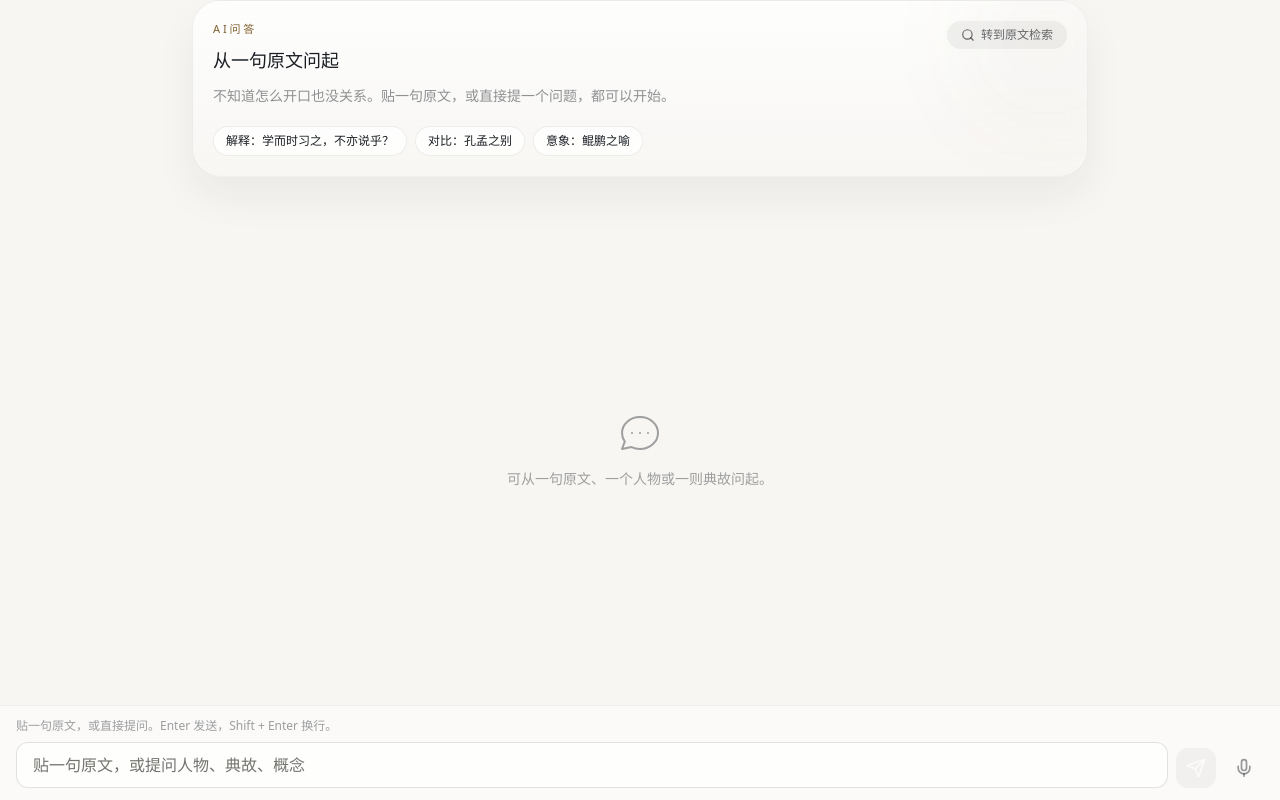
Test: ChatInterface › marks a non-empty stream without done as interrupted
Type "回答这个问题" into the text box.
click(592, 765); type("回答这个问题")  # box 16,742 -> 1168,788
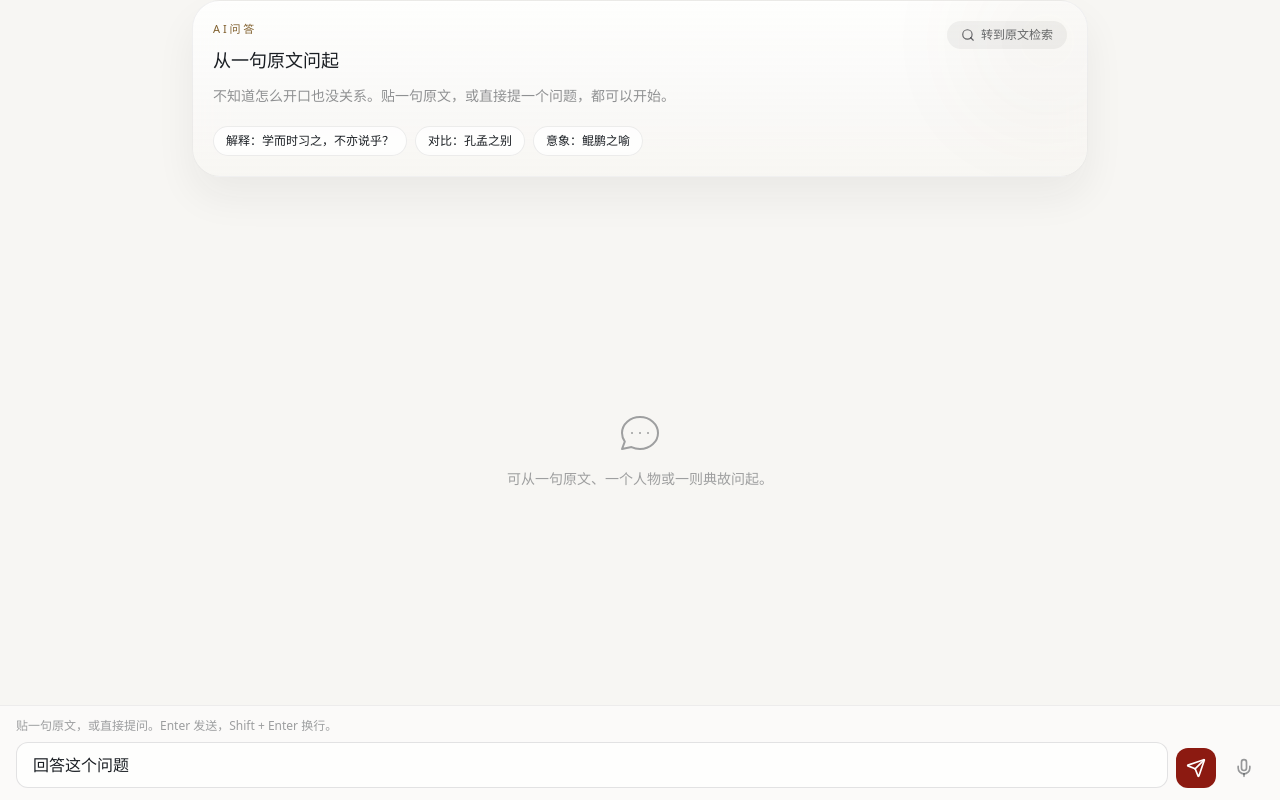
Click the button named "发送".
click(1196, 768)  # box 1176,748 -> 1216,788
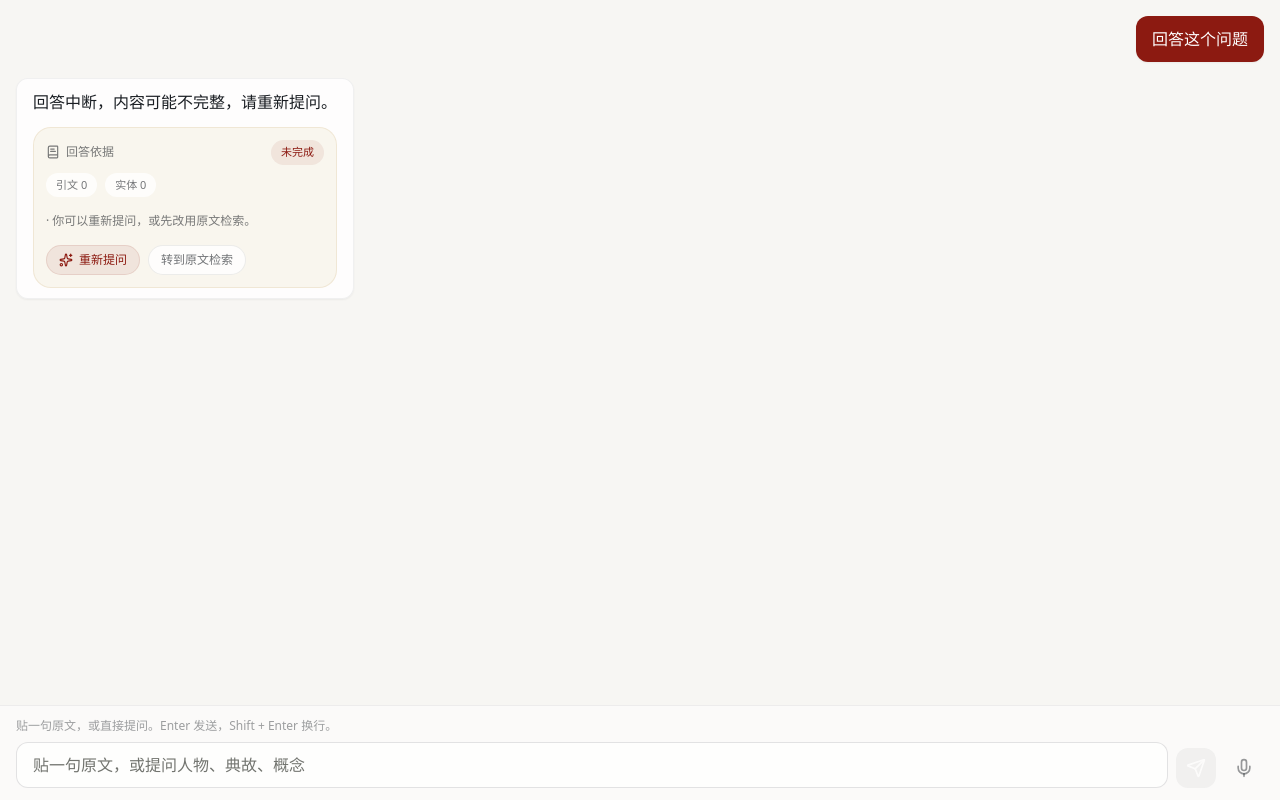
Now the text "回答中断，内容可能不完整，请重新提问。" is shown, box 33,89 -> 337,115
Now the button "重新提问" is enabled, box 46,245 -> 140,275
